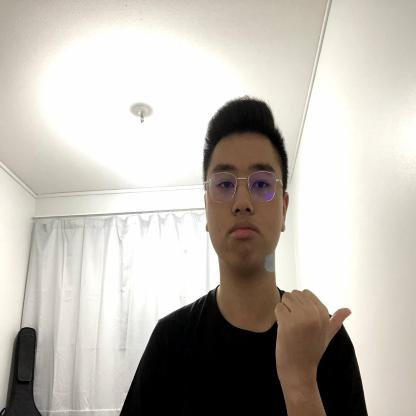left: (274, 284, 353, 380)
